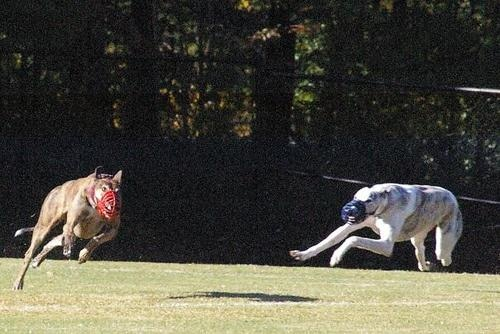dog: (291, 182, 466, 275), (11, 165, 127, 291)
